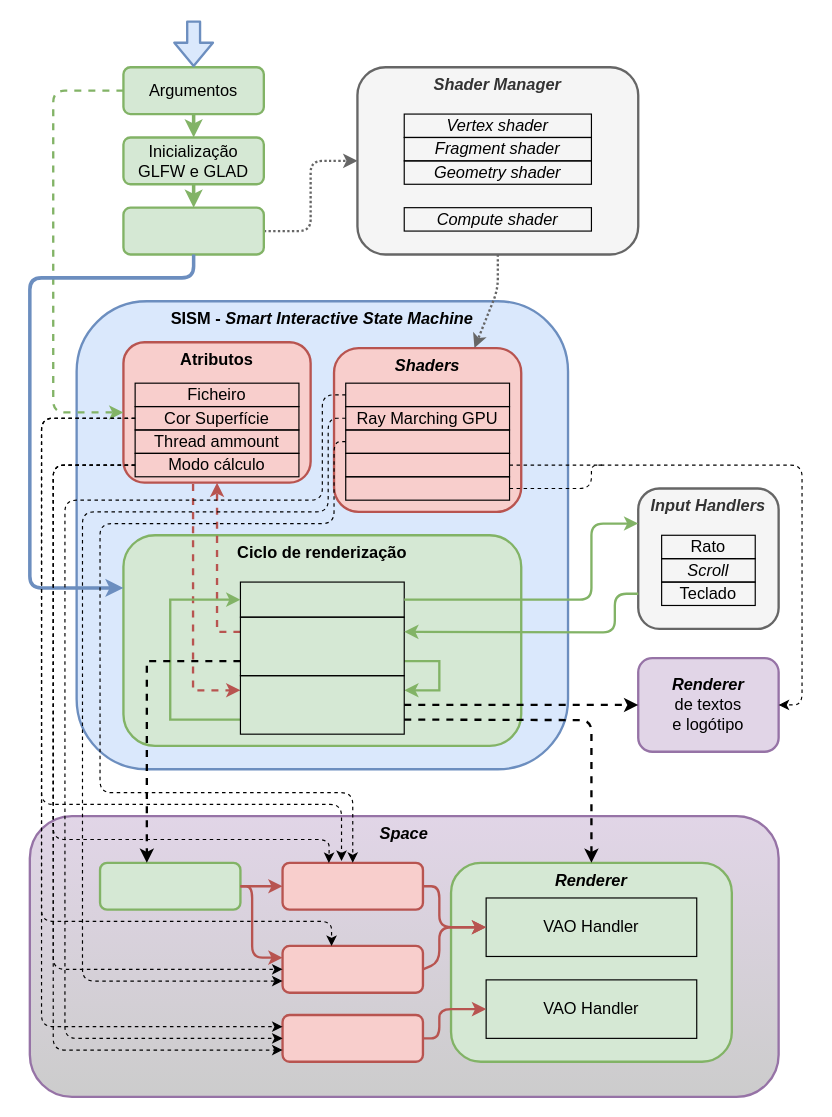
The diagram is 832 pixels wide and 1117 high, and some of its shapes have lost their labels. The shapes that lost their labels are listed below. From the top down, each one's centre as x and y in pixels, then its label:
At (193,230): "Compilação Shaders".
At (427,394): "Sphere Tracing GPU".
At (427,441): "Ray Marching CPU".
At (427,464): "Textos".
At (427,488): "Logótipo".
At (321,599): "Eventos GLFW".
At (321,646): "Ação".
At (321,704): "Renderização".
At (169,885): "Function Reader".
At (352,885): "Surface CPU".
At (352,968): "Surface GPU".
At (352,1037): "Sphere Tracing".
